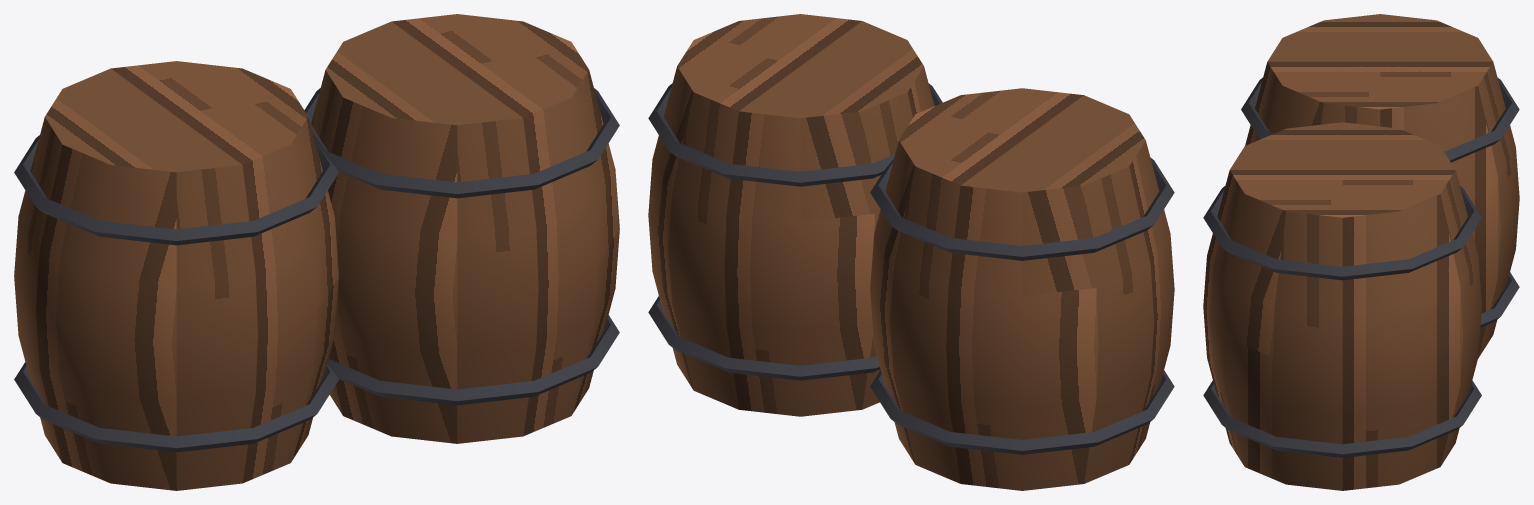
Rendered from barrels.glb.
The picture shows the model from 3 angles, left to right: view 1: azimuth 30°, elevation 25°; view 2: azimuth 150°, elevation 25°; view 3: azimuth 270°, elevation 25°; orthographic projection. The views are drawn at different scales.
Visible parts, largest first — view 1: Barrels; view 2: Barrels; view 3: Barrels.
Part boxes in pixels (bbox=[...]): Barrels: bbox=[14, 14, 619, 490]; Barrels: bbox=[648, 14, 1174, 490]; Barrels: bbox=[1203, 14, 1519, 490].
Size of the model in its own units: 1.42 by 0.8001 by 0.8399.
2 materials, 1 textured.
